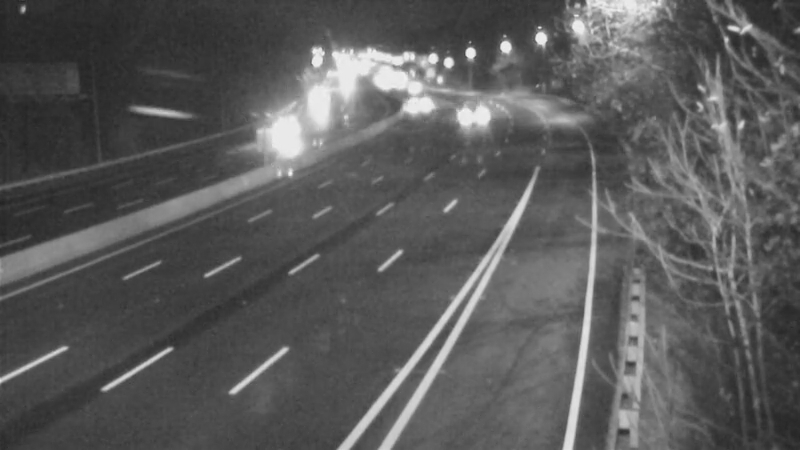vehicle: (389, 63, 439, 113), (393, 78, 443, 128), (435, 90, 485, 140), (261, 109, 311, 159), (299, 75, 349, 125)
